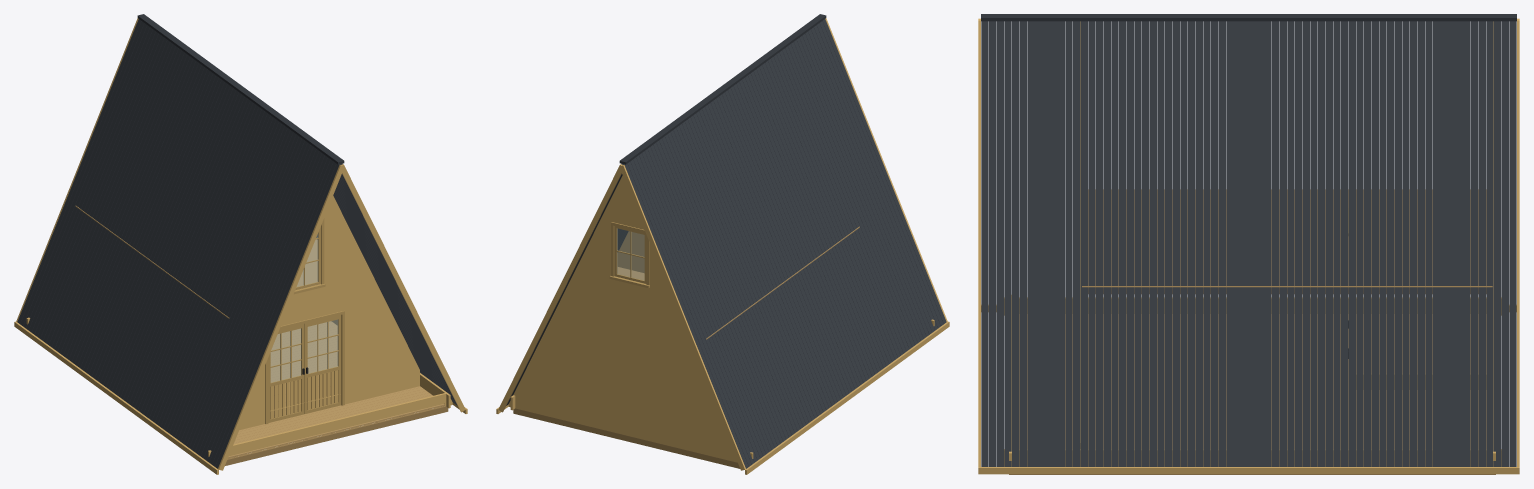
File: эрнест_5_2_7_44_мм_а_фрейм.glb
The picture shows the model from 3 angles, left to right: view 1: azimuth 30°, elevation 25°; view 2: azimuth 150°, elevation 25°; view 3: azimuth 270°, elevation 25°; orthographic projection. The views are drawn at different scales.
Visible parts, largest first — view 1: roof, walls, floor, Эрнест 5,2×7 (44 мм, А-фрейм), object 33, object 15, slab, object 47; view 2: roof, walls, Эрнест 5,2×7 (44 мм, А-фрейм), object 129, slab; view 3: roof, floor, slab, walls.
Boxes of the visible parts, box(x1,y1,x2,y2) form: roof: box(14, 14, 467, 474); walls: box(26, 196, 452, 456); floor: box(228, 321, 444, 458); Эрнест 5,2×7 (44 мм, А-фрейм): box(225, 405, 448, 465); object 33: box(308, 320, 337, 373); object 15: box(271, 329, 300, 382); slab: box(75, 205, 317, 318); object 47: box(297, 234, 317, 286); roof: box(496, 14, 949, 474); walls: box(508, 175, 934, 462); Эрнест 5,2×7 (44 мм, А-фрейм): box(513, 408, 739, 468); object 129: box(617, 228, 644, 280); slab: box(617, 226, 859, 339); roof: box(978, 14, 1519, 474); floor: box(1019, 314, 1486, 448); slab: box(1082, 189, 1492, 293); walls: box(1004, 21, 1501, 466).
Size of the model in its own units: 5.55 by 6.06 by 7.78.
